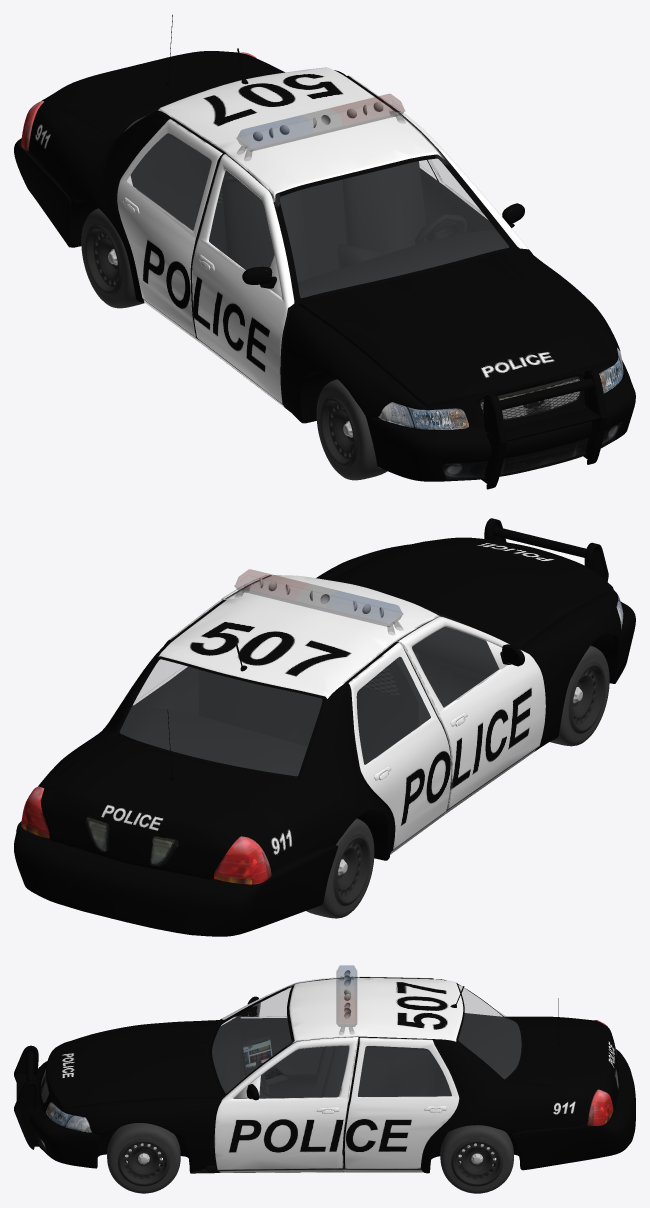
Rendered from car_police_01.glb.
3 renders of one model, top to bottom at view 1: azimuth 30°, elevation 25°; view 2: azimuth 150°, elevation 25°; view 3: azimuth 270°, elevation 25°, orthographic. The views are drawn at different scales.
Visible parts, largest first — view 1: CrownVic.Body, windows glass, interior, CrownVic.Wheel.Ft.R, Roof light bar, CrownVic.Wheel.Bk.R; view 2: CrownVic.Body, windows glass, interior, Roof light bar, CrownVic.Wheel.Bk.R, CrownVic.Wheel.Ft.R; view 3: CrownVic.Body, windows glass, interior, CrownVic.Wheel.Ft.L, CrownVic.Wheel.Bk.L, Roof light bar.
Part boxes in pixels (left/top/right/bottom): CrownVic.Body: left=14, top=14, right=635, bottom=489; windows glass: left=125, top=110, right=508, bottom=297; interior: left=124, top=116, right=509, bottom=298; CrownVic.Wheel.Ft.R: left=316, top=379, right=387, bottom=480; Roof light bar: left=236, top=94, right=405, bottom=160; CrownVic.Wheel.Bk.R: left=81, top=208, right=144, bottom=308; CrownVic.Body: left=14, top=518, right=635, bottom=936; windows glass: left=120, top=607, right=498, bottom=775; interior: left=119, top=615, right=498, bottom=776; Roof light bar: left=234, top=569, right=403, bottom=634; CrownVic.Wheel.Bk.R: left=306, top=818, right=374, bottom=918; CrownVic.Wheel.Ft.R: left=550, top=645, right=609, bottom=746; CrownVic.Body: left=14, top=976, right=635, bottom=1173; windows glass: left=212, top=985, right=521, bottom=1098; interior: left=212, top=1013, right=521, bottom=1098; CrownVic.Wheel.Ft.L: left=107, top=1123, right=180, bottom=1193; CrownVic.Wheel.Bk.L: left=440, top=1125, right=513, bottom=1193; Roof light bar: left=336, top=965, right=356, bottom=1034.
Size of the model in its own units: 2.48 by 1.98 by 6.7.
Materials: 7 (5 with a texture image).
